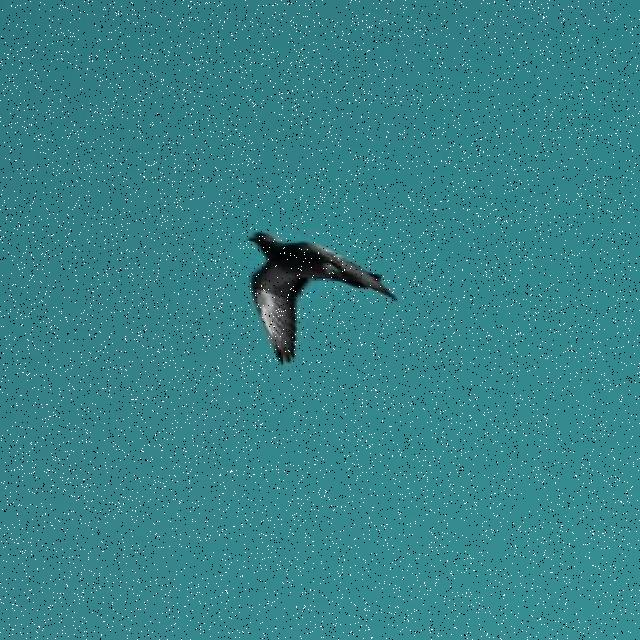bird: (247, 231, 398, 366)
